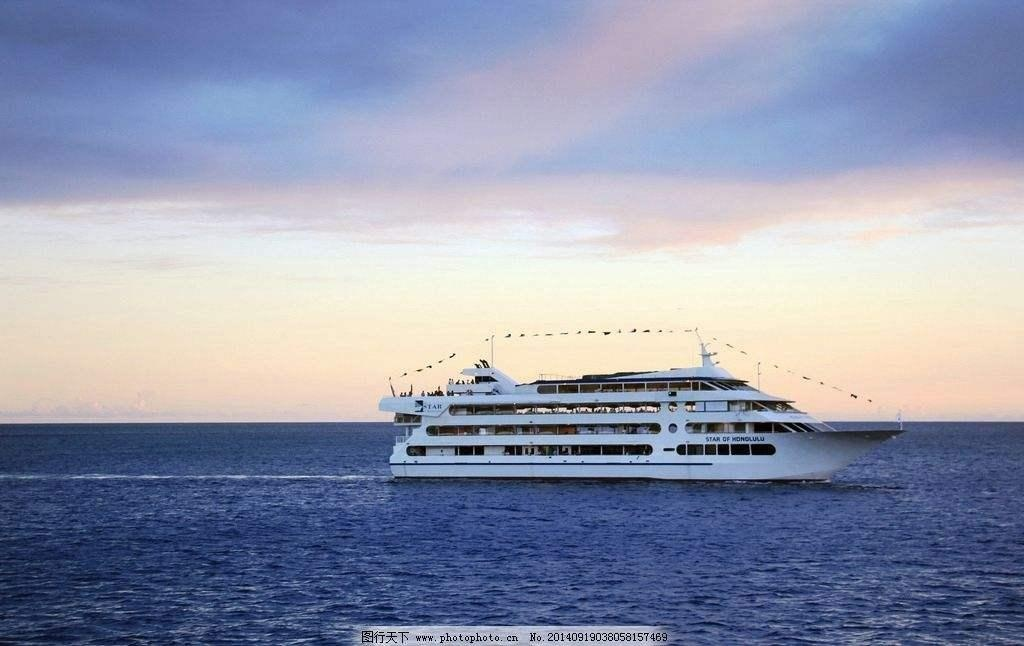yacht: (376, 329, 899, 478)
